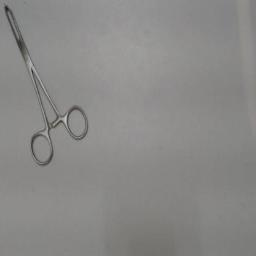Allis Tissue Forceps: (2, 2, 92, 172)
